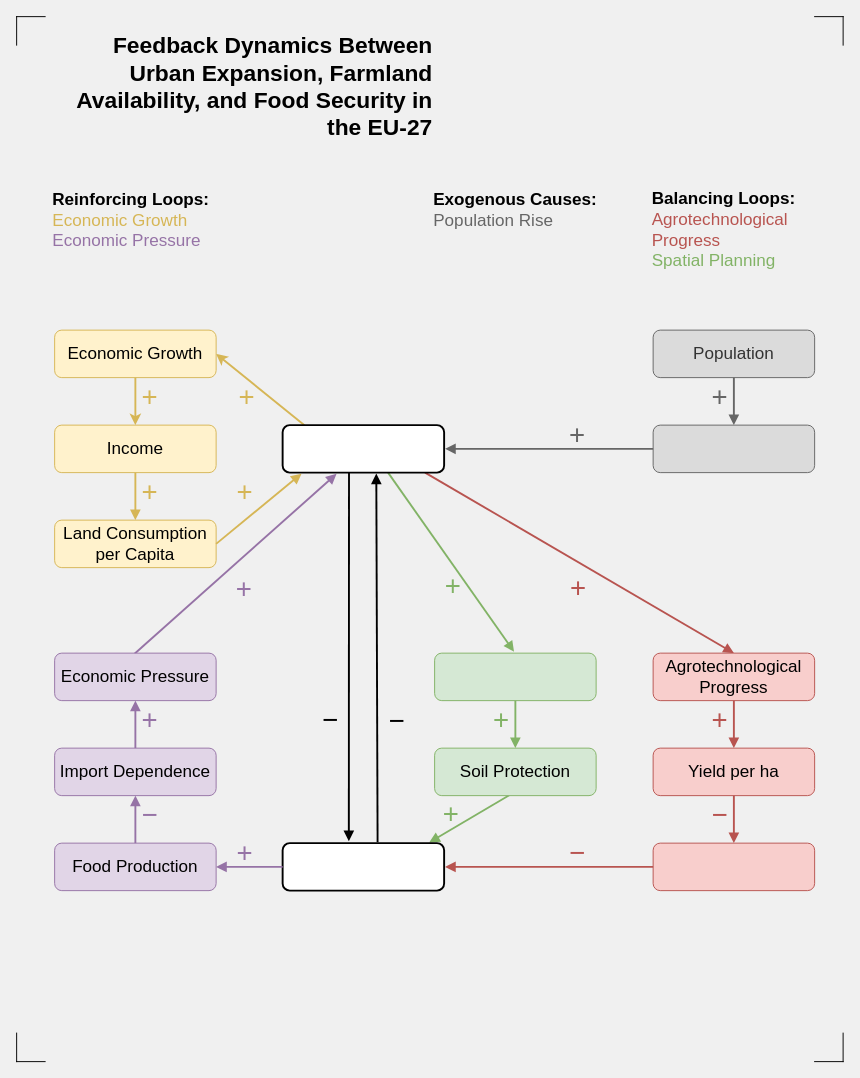
This 860x1078 diagram has some shape labels left out. The shapes that lost their labels are listed below. From the top down, each one's centre as x and y in pixels, then its label:
[363,448]: Land Conversion
[733,448]: Housing Demand
[515,676]: Spatial Planning
[363,866]: Agricultural Land
[733,866]: Land Requirement
